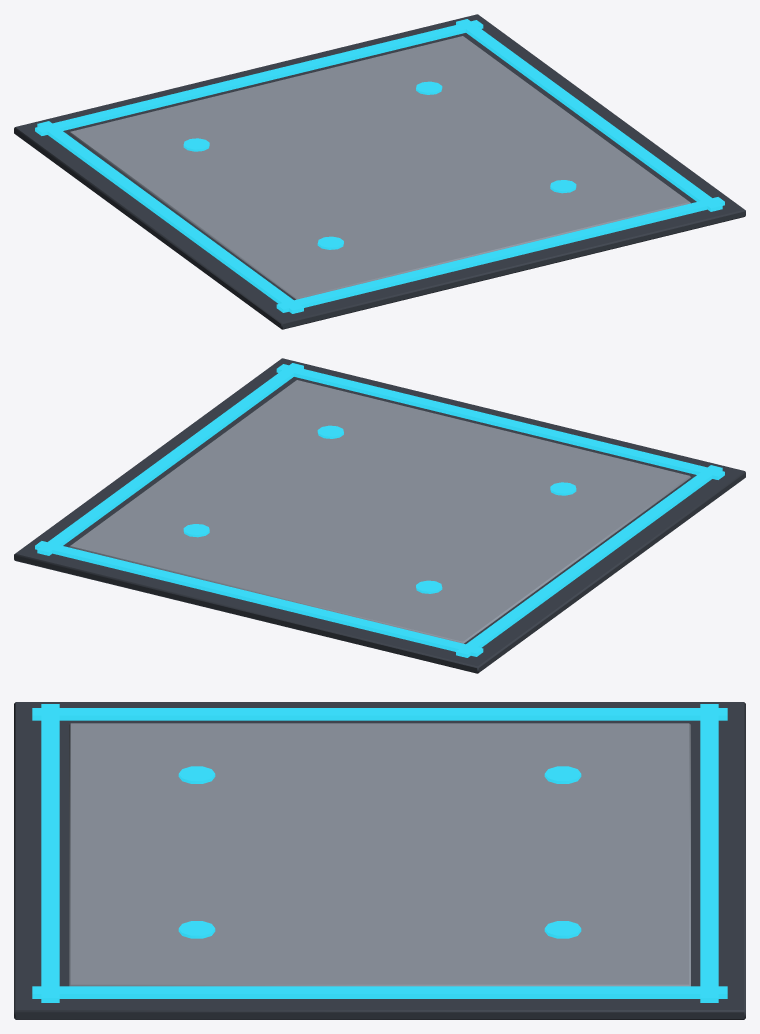
The model's file is floorpanel_glow_edge_2x2.glb.
The picture shows the model from 3 angles, top to bottom: view 1: azimuth 30°, elevation 25°; view 2: azimuth 150°, elevation 25°; view 3: azimuth 270°, elevation 25°; orthographic projection. The views are drawn at different scales.
Parts seen in each view (by area): view 1: floorpanel_glow_edge_2x2; view 2: floorpanel_glow_edge_2x2; view 3: floorpanel_glow_edge_2x2.
Part boxes in pixels (x1,y1,x2,y2): floorpanel_glow_edge_2x2: (14,14,745,329); floorpanel_glow_edge_2x2: (14,358,745,673); floorpanel_glow_edge_2x2: (14,702,745,1019).
Size of the model in its own units: 2 by 0.048 by 2.
